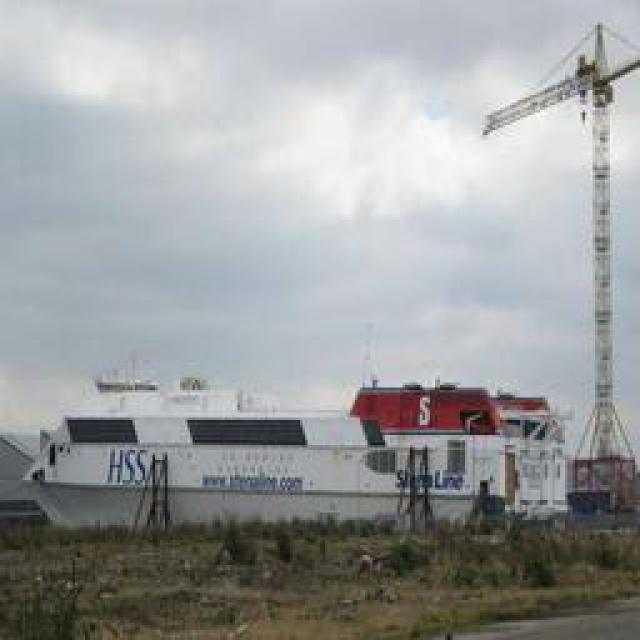Ship: (14, 370, 581, 535)
